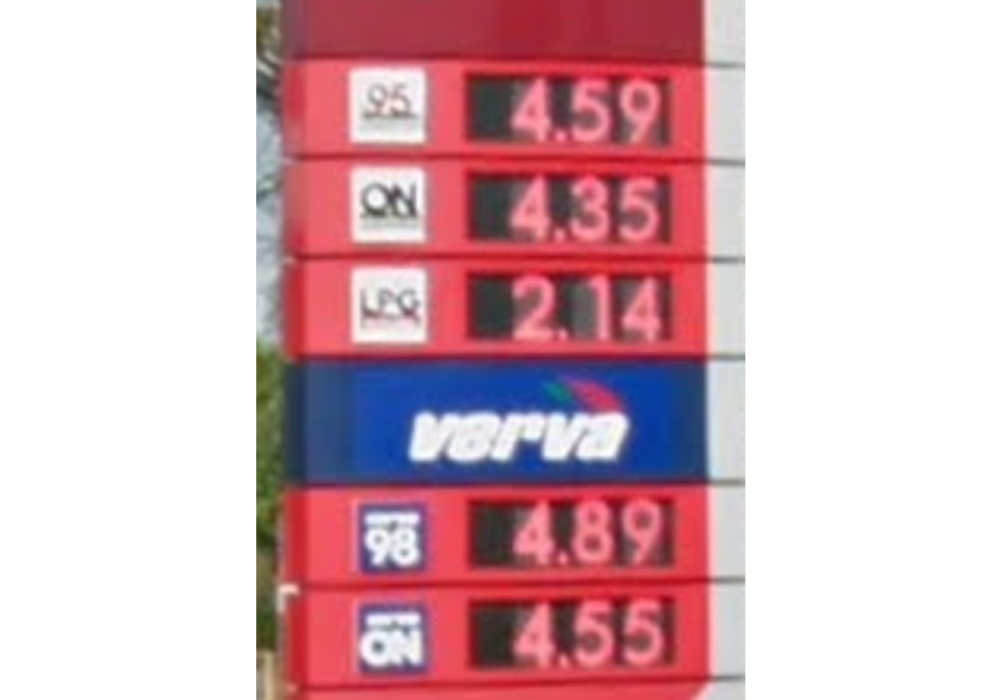LPG: (352, 262, 426, 342)
ON: (342, 161, 431, 248), (354, 595, 433, 678)
PB95: (344, 63, 429, 145)
PB98: (354, 498, 428, 575)
